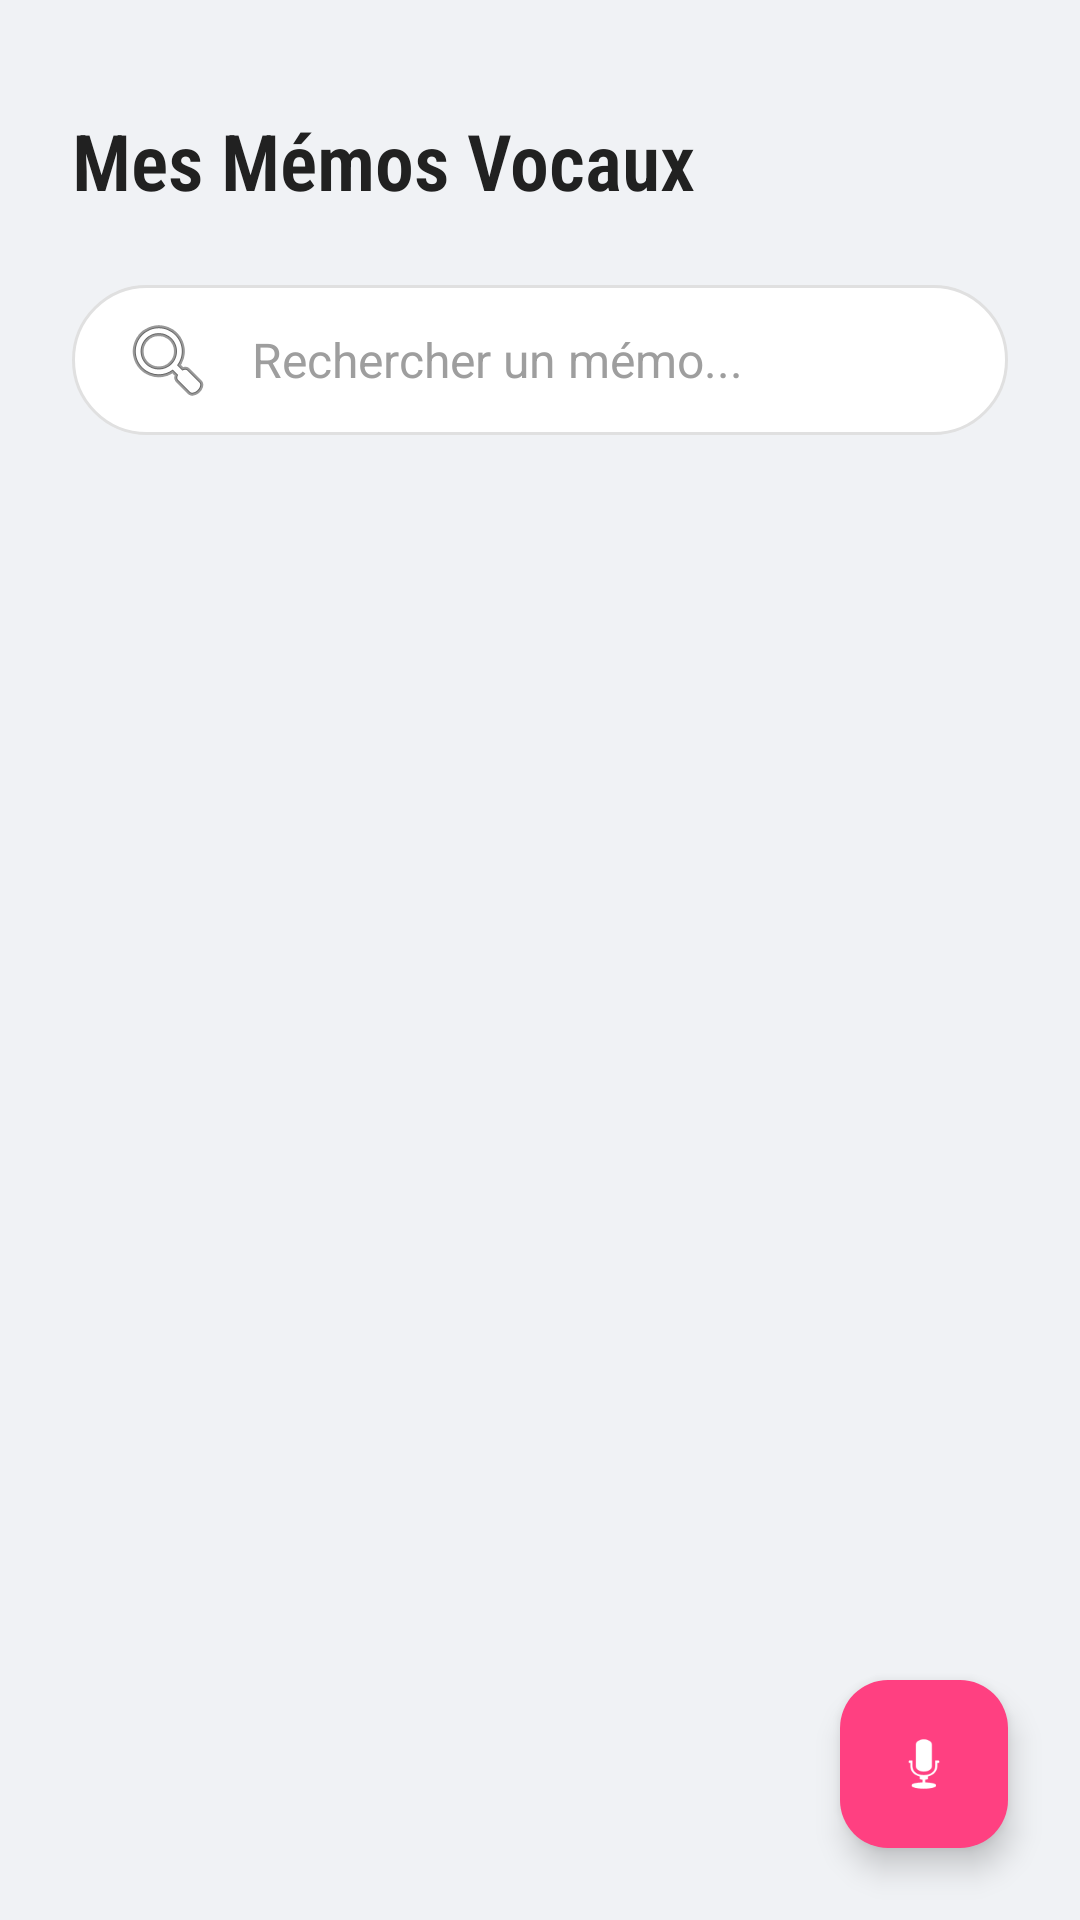

Where to tap for icons on this 1080px×1920px app screen, as (x,y):
Nouveau mémo: (924,1764)
